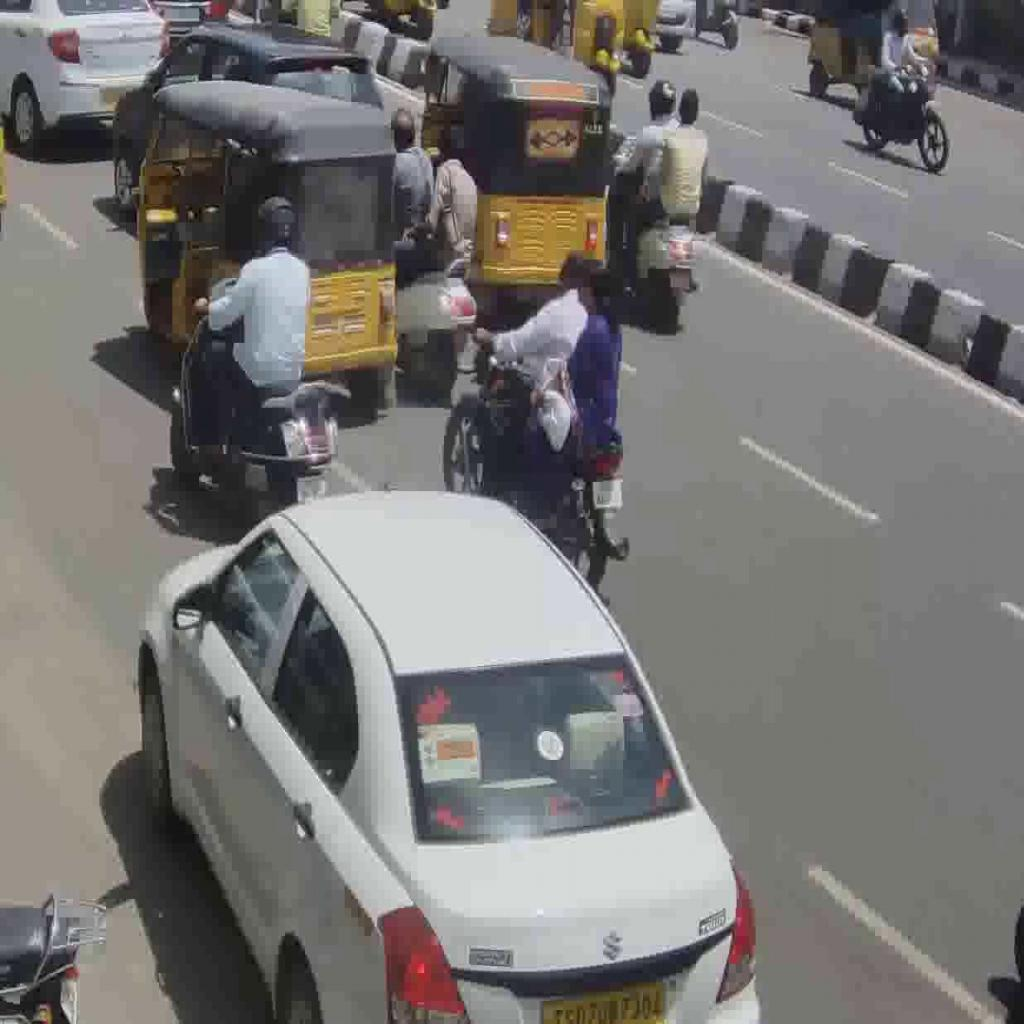helmet: (442, 322, 630, 590), (169, 276, 339, 530), (608, 132, 701, 334), (396, 254, 477, 404)
